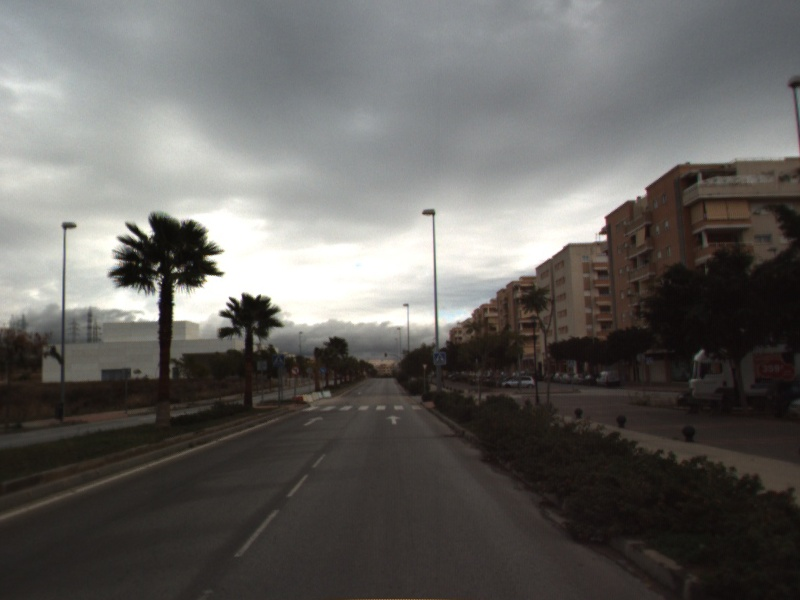STRAIGHT: (302, 414, 326, 427), (384, 413, 403, 426)
